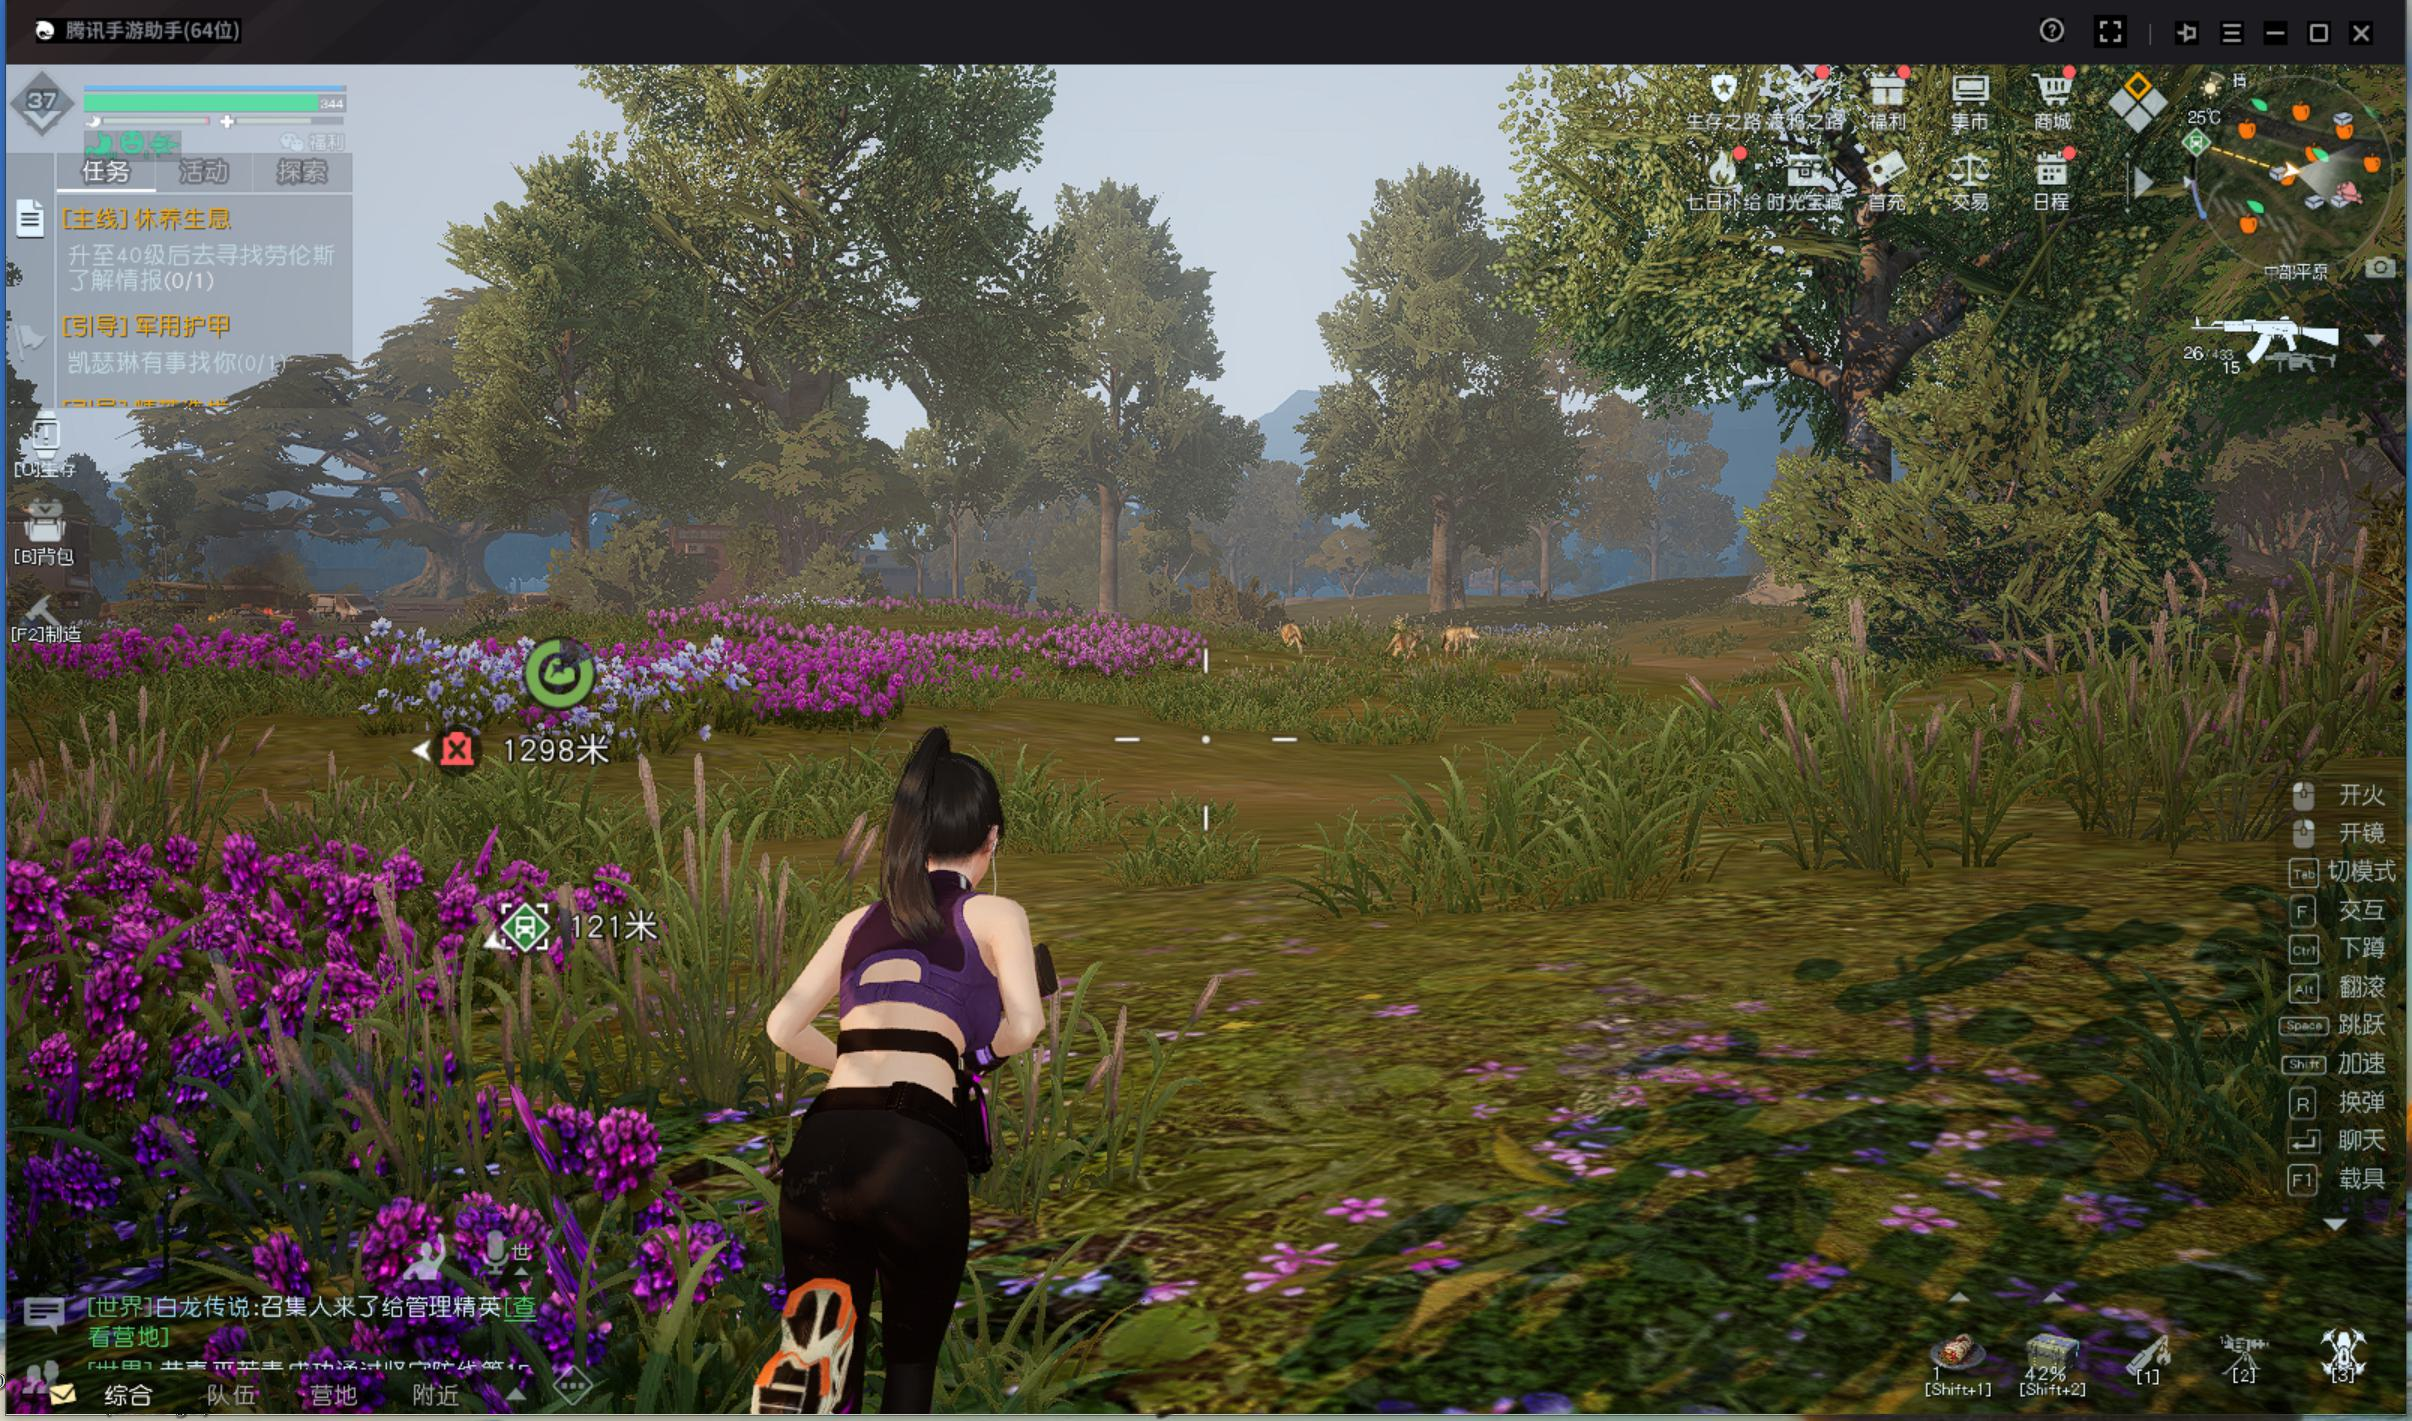tree: (1088, 501, 1132, 626), (1423, 501, 1460, 623), (1529, 533, 1561, 606)
